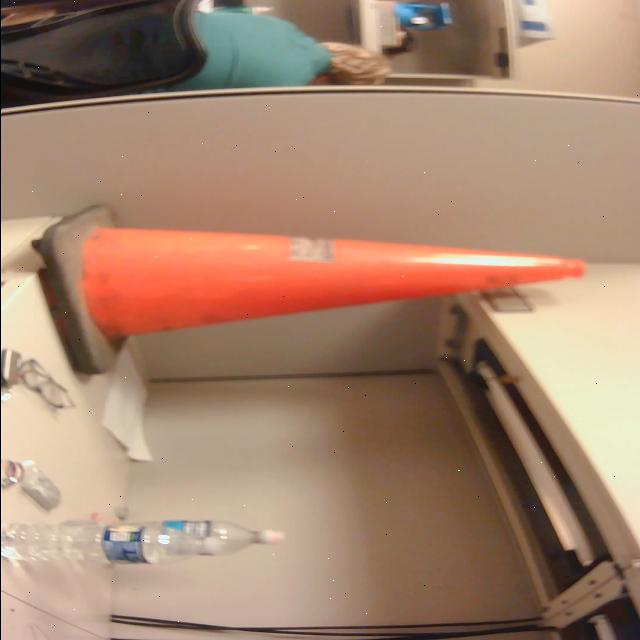traffic cone: (23, 197, 592, 383)
